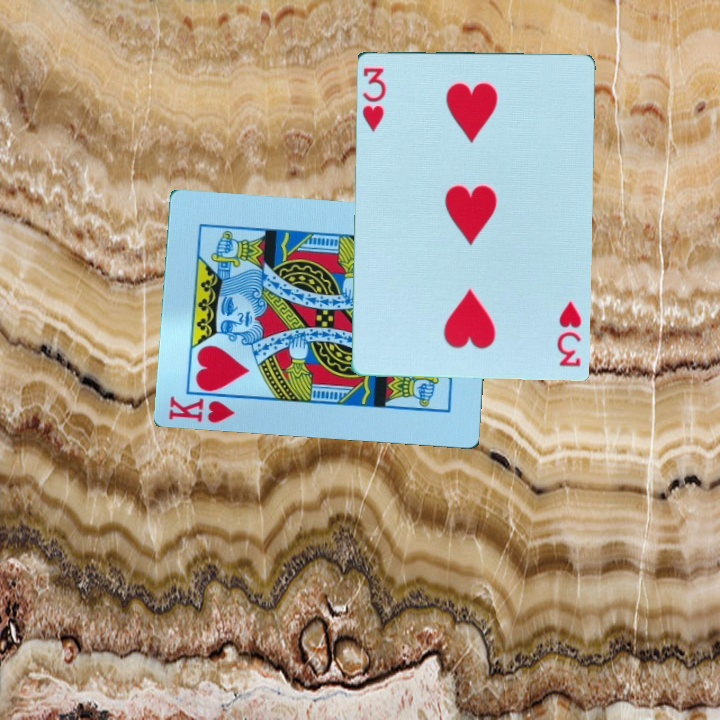3h: (358, 63, 388, 135), (554, 297, 584, 369)
Kh: (166, 392, 239, 426)
